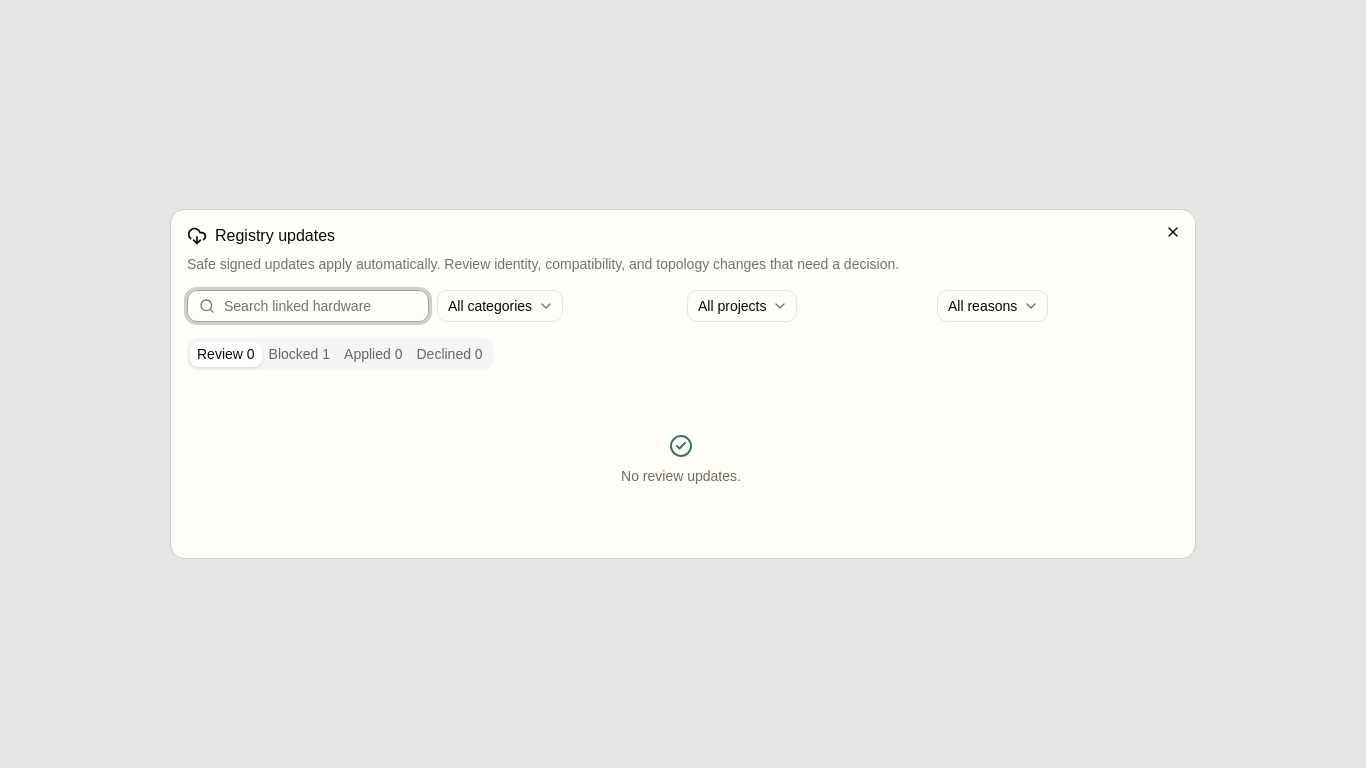
Test: RegistryUpdatesDialog › shows the exact backend reason when a blocked update has no deterministic resolution
The width and height of the screenshot is (1366, 768).
Click the tab "Blocked 1" at (299, 354), box [262,342,337,366]
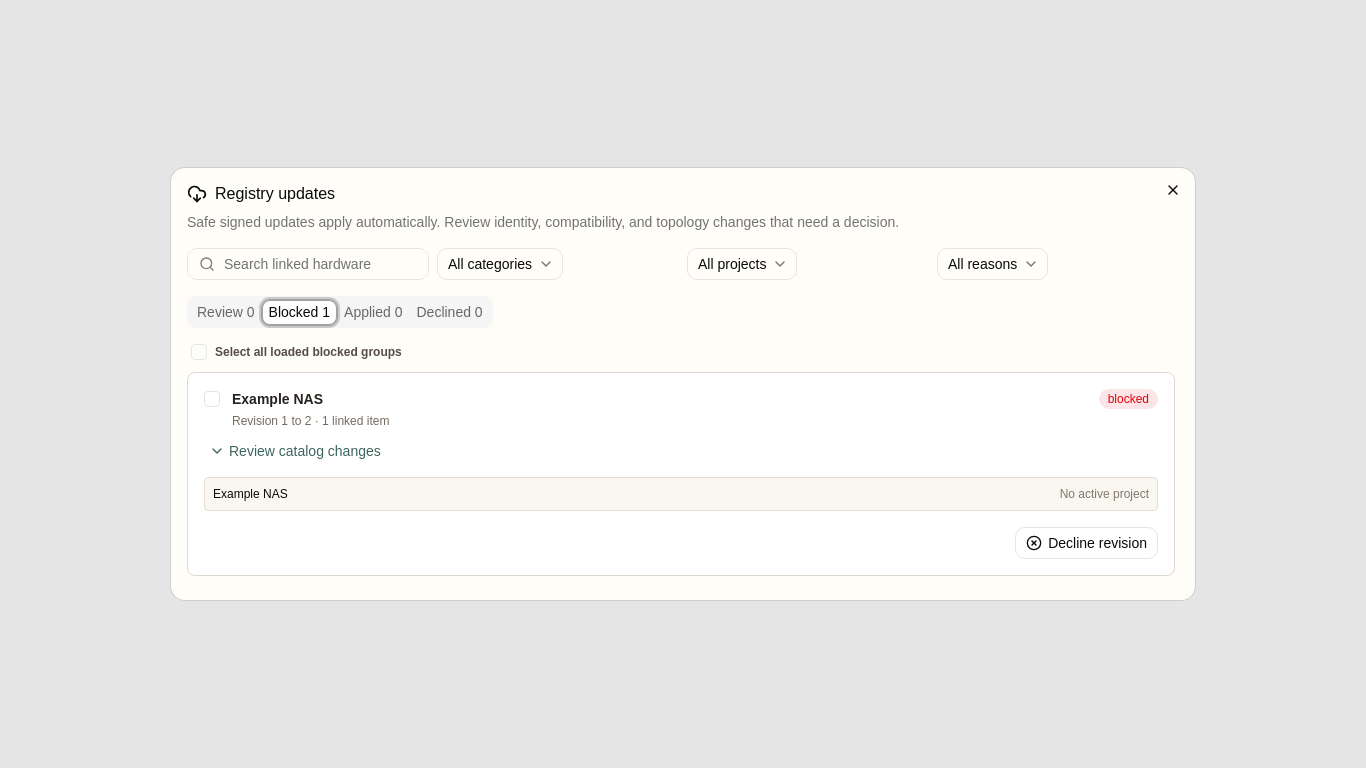
Click the button "Review catalog changes" at (295, 451), box [204,437,386,465]
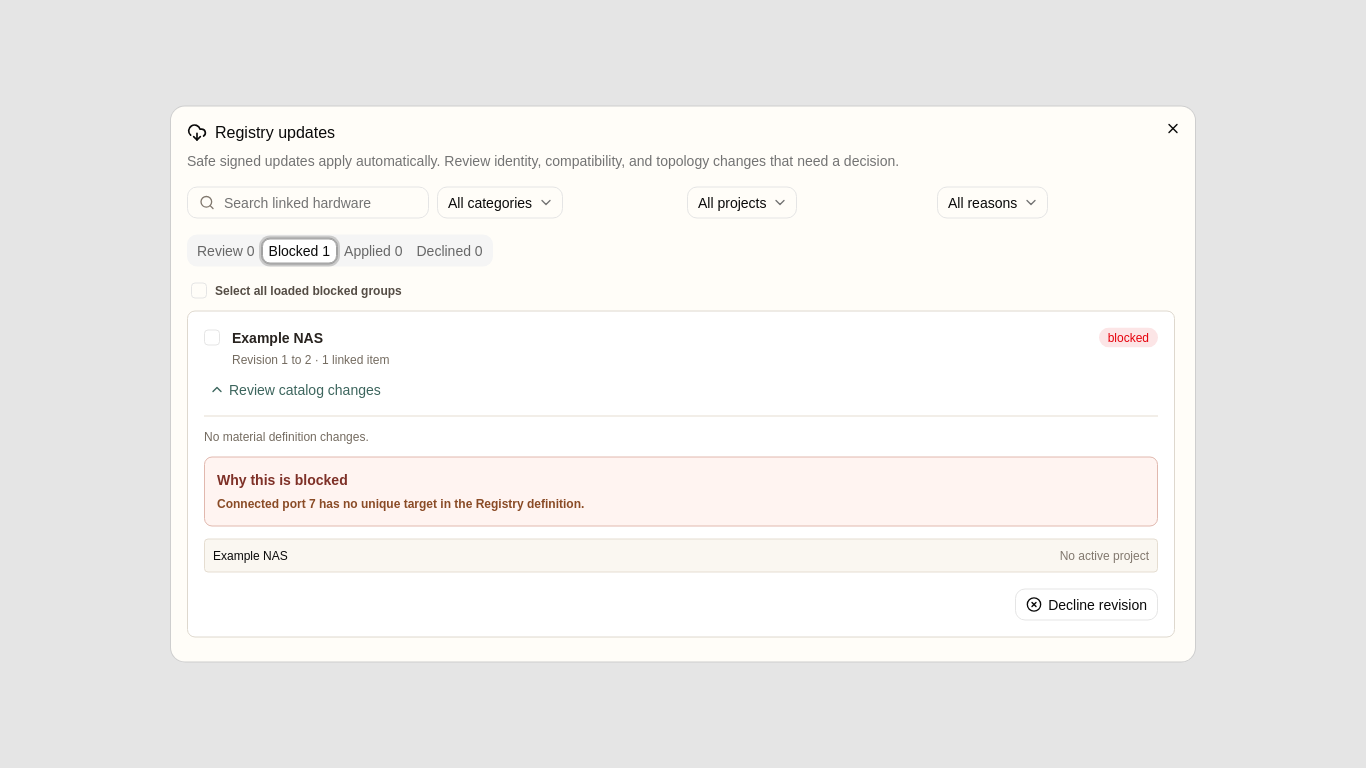
Check: the text "Connected port 7 has no unique target in the Registry definition." is shown, box [217,496,584,510]
